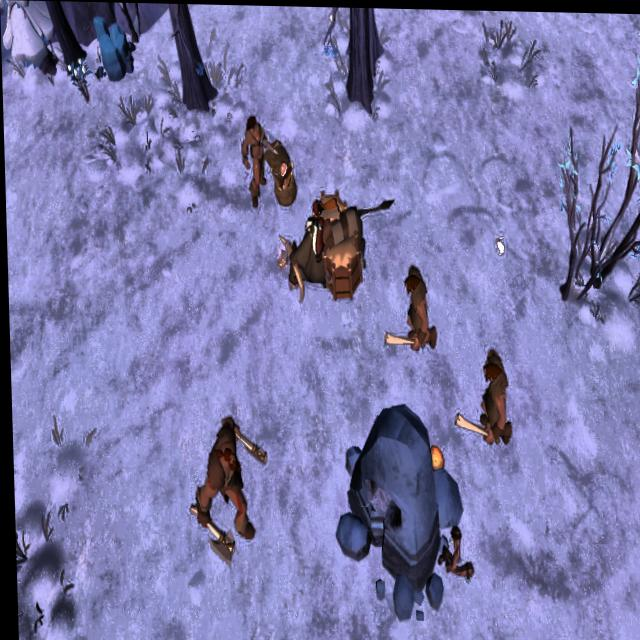enemy_factionKeeper: (186, 418, 271, 567), (447, 348, 512, 455), (382, 264, 435, 363), (240, 111, 279, 204)
fiber_t4: (66, 56, 91, 104)
rock_t4: (91, 18, 137, 79)
